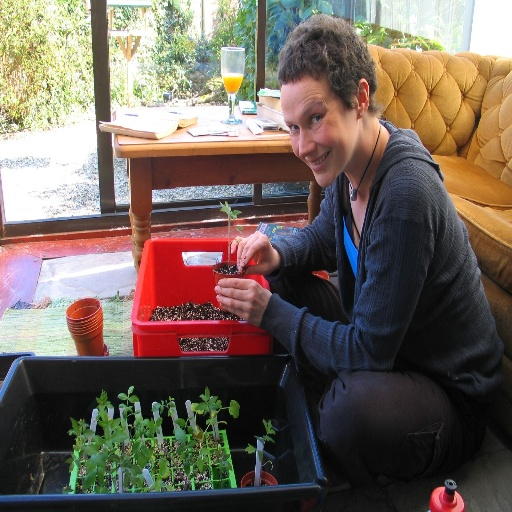hand: (214, 276, 267, 325), (229, 230, 280, 276)
